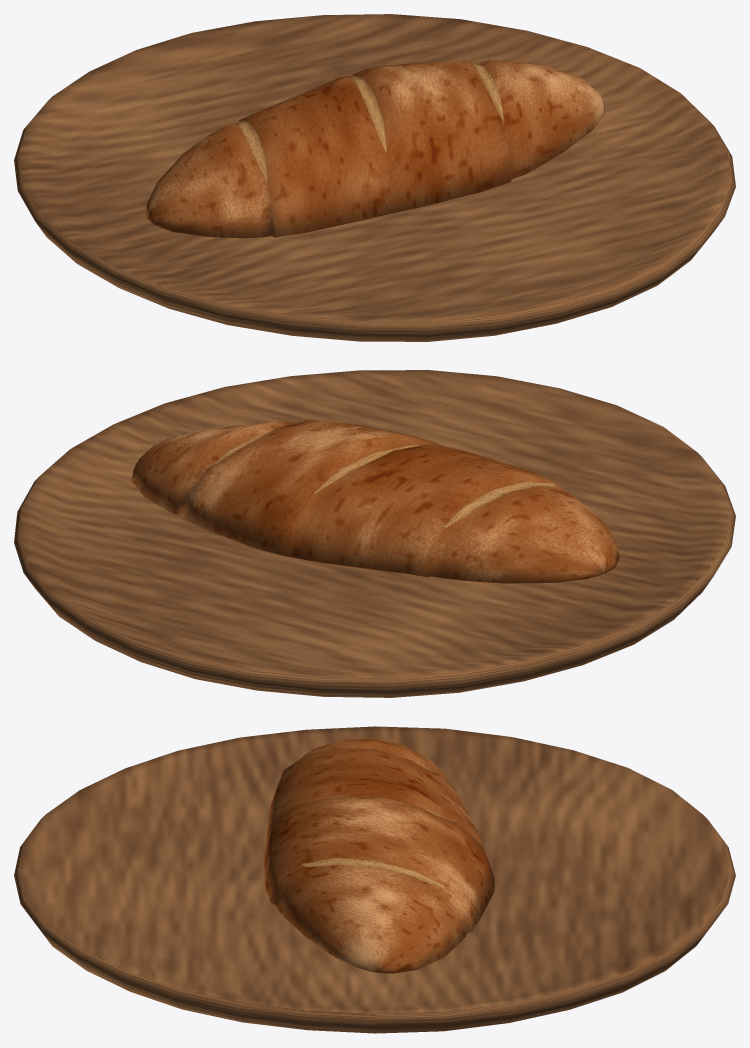
The model's file is table_bread.glb.
3 views of the same model, one above another, from view 1: azimuth 30°, elevation 25°; view 2: azimuth 150°, elevation 25°; view 3: azimuth 270°, elevation 25° (orthographic). The views are drawn at different scales.
Visible parts, largest first — view 1: TableBread; view 2: TableBread; view 3: TableBread.
Boxes of the visible parts, x1,y1,x2,y2 form: TableBread: (14, 14, 735, 341); TableBread: (14, 370, 735, 697); TableBread: (14, 726, 735, 1033).
Size of the model in its own units: 0.464 by 0.0746 by 0.486.
3 materials, 3 textured.
